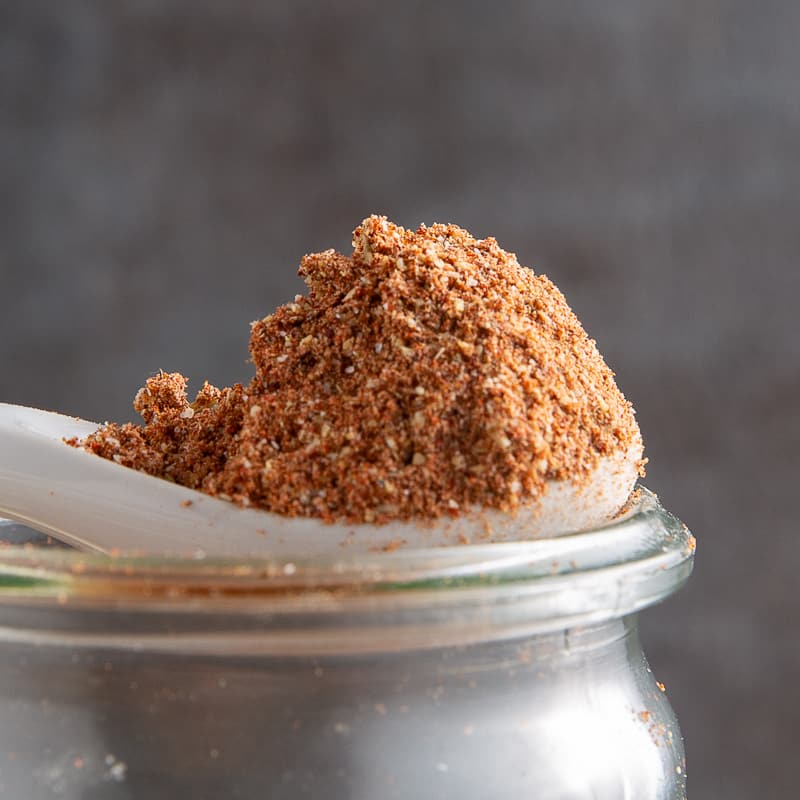ground_beef: (112, 174, 636, 532)
